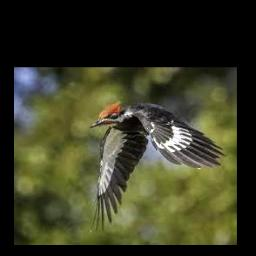Woodpecker: (90, 100, 226, 233)
